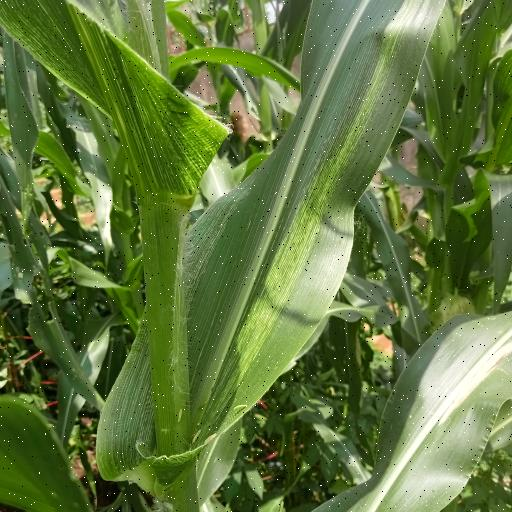Corn_Streak: (102, 0, 447, 507)
